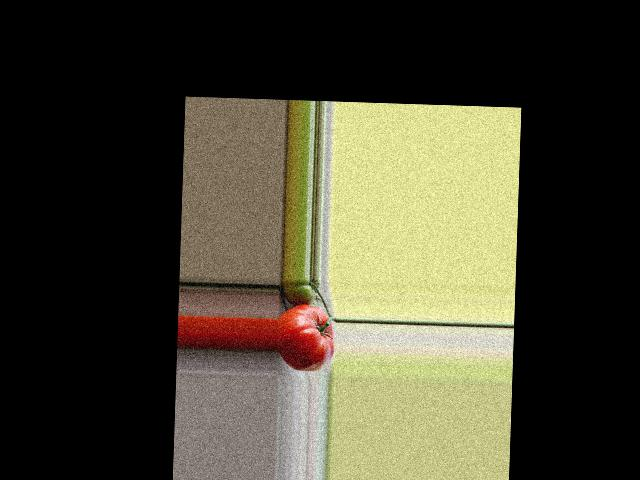tomato: (275, 303, 335, 372)
